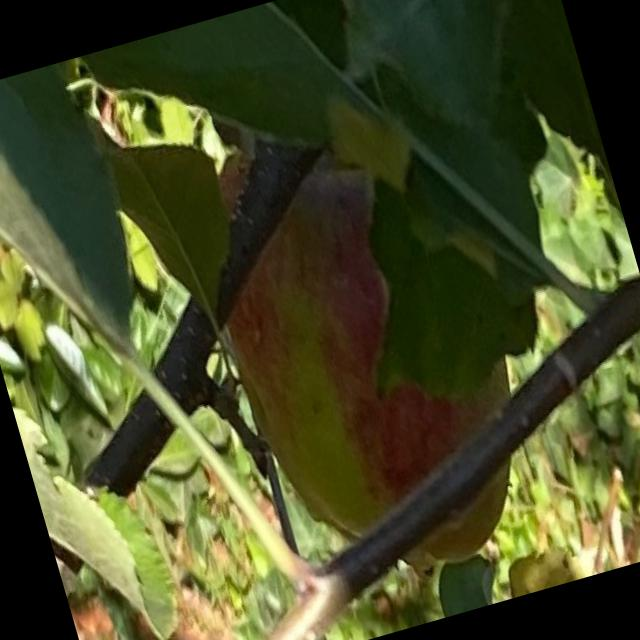Apples: (177, 95, 554, 598)
